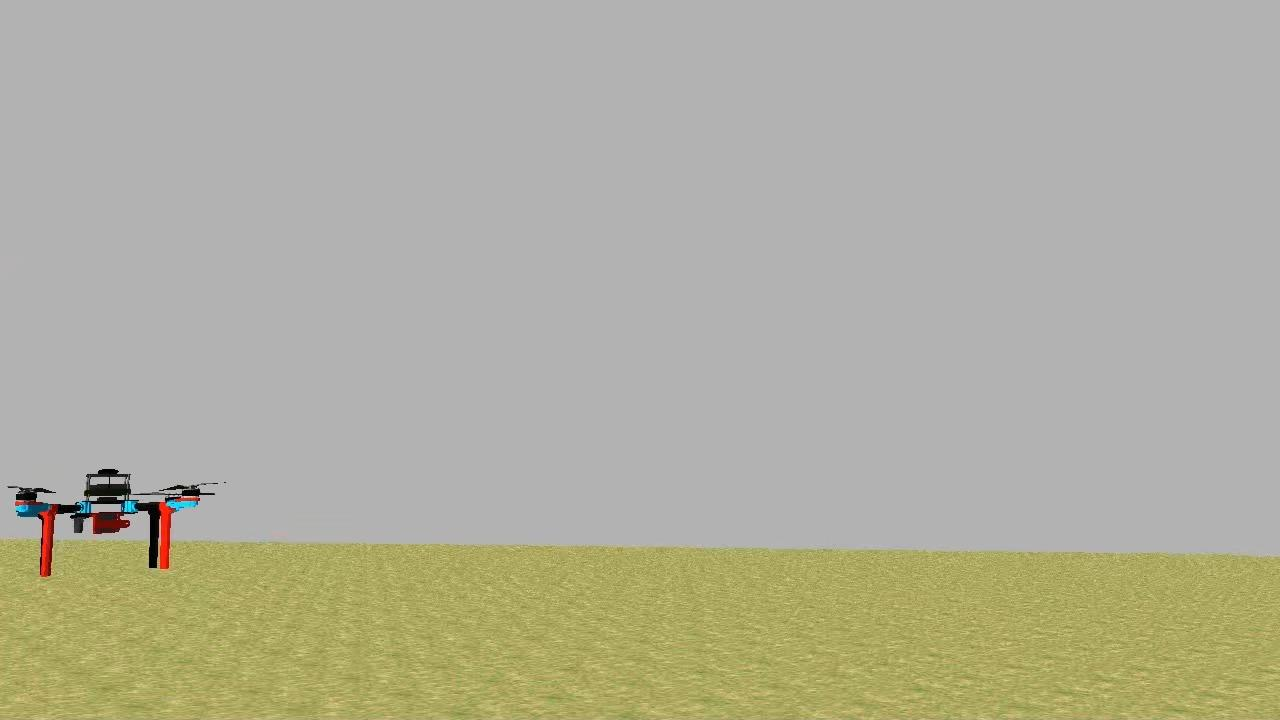UAV: (10, 462, 210, 586)
